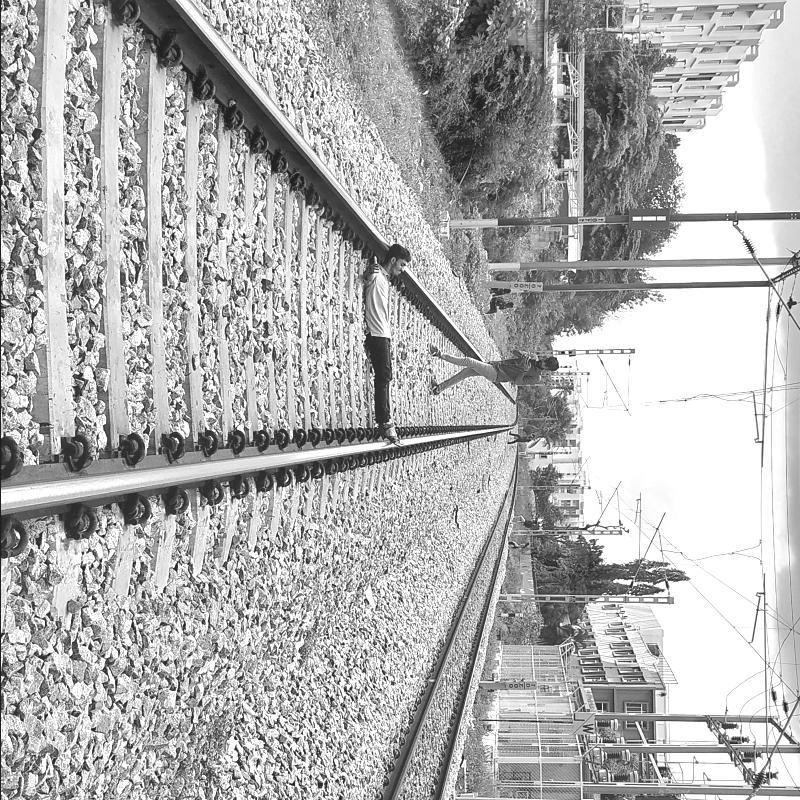sleeping: (361, 240, 417, 456)
